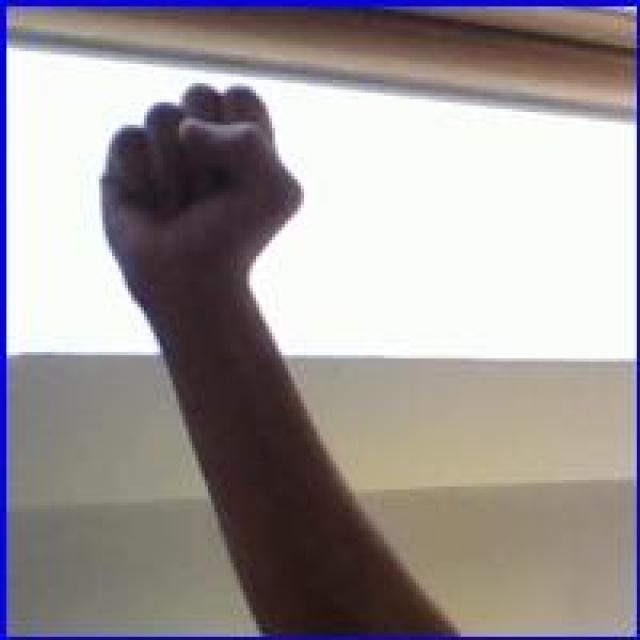S: (99, 75, 304, 296)
